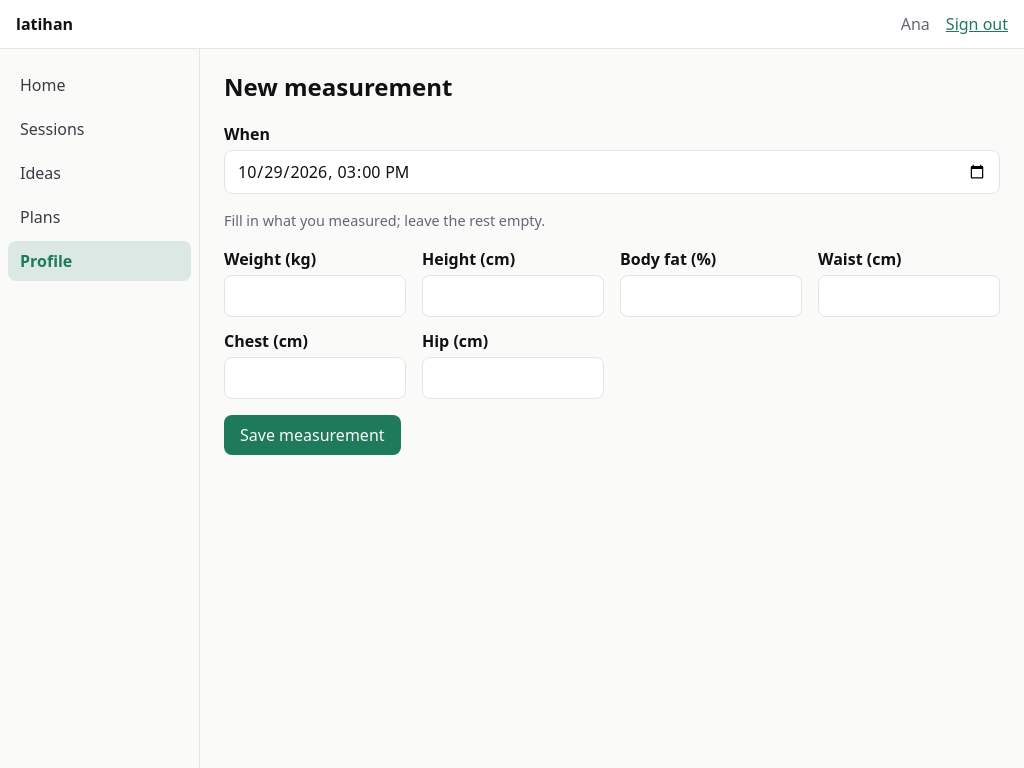
Test case: adding a measurement › sends what was filled in, null for the rest, with an idempotency key
In the field labelled "Weight (kg)": point(315, 296) top-left (224, 275), bottom-right (406, 317), type "72,5"
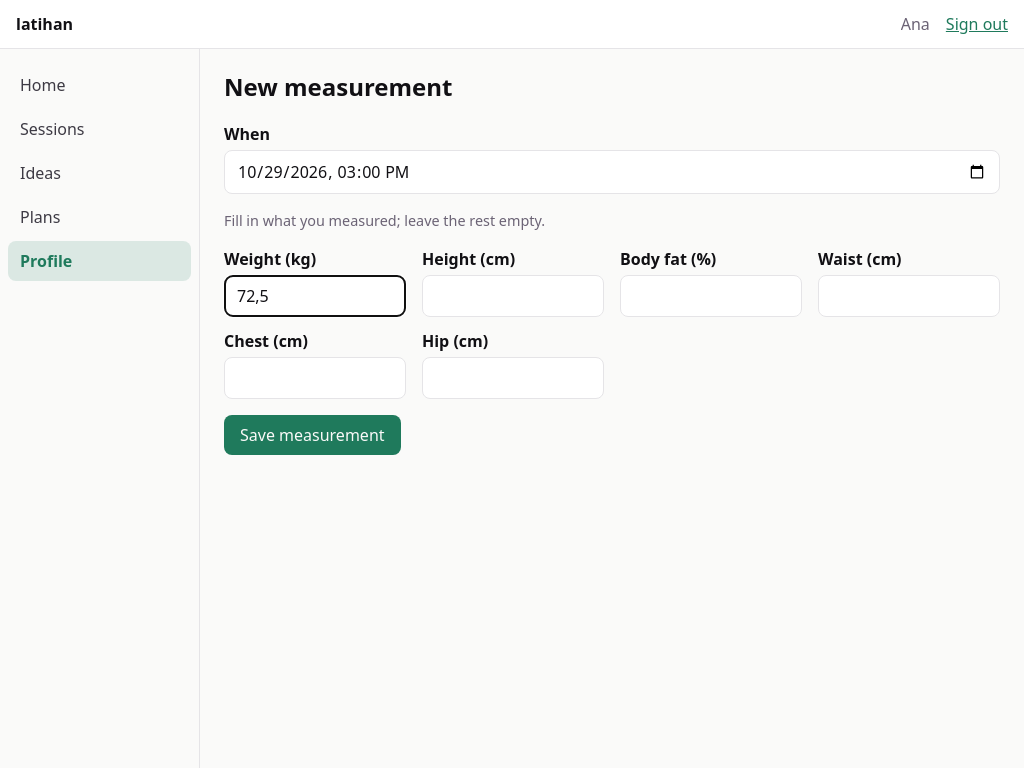
In the field labelled "Body fat (%)": point(711, 296) top-left (620, 275), bottom-right (802, 317), type "0"
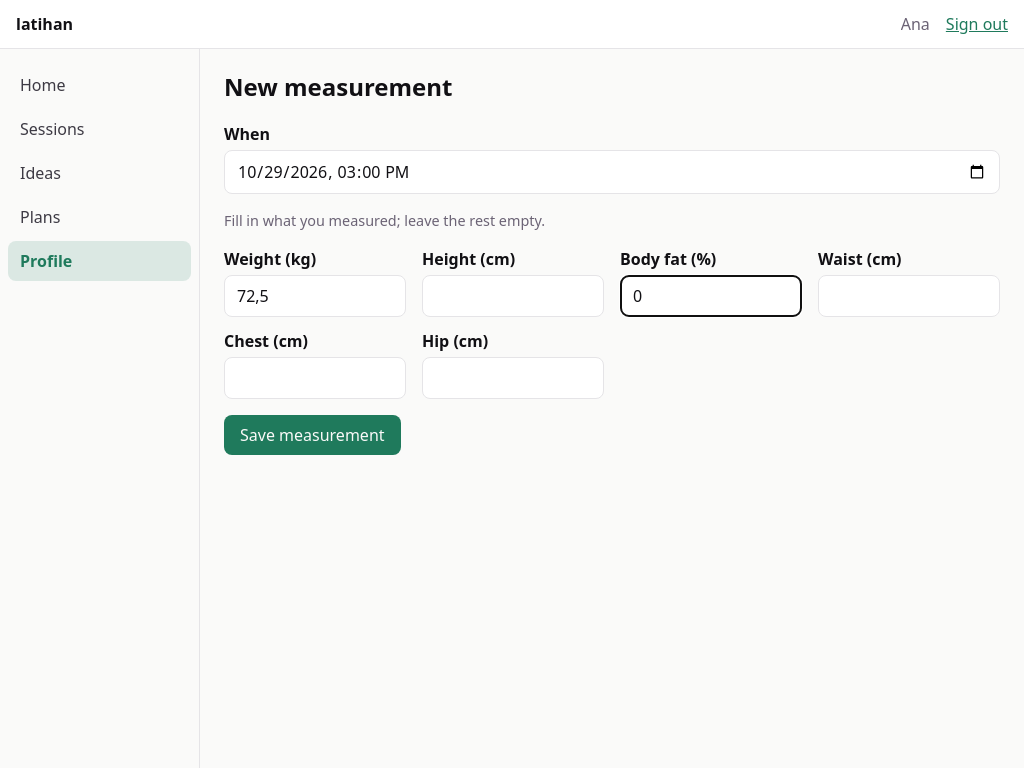
Click the button "Save measurement": point(312, 435) top-left (224, 415), bottom-right (400, 455)
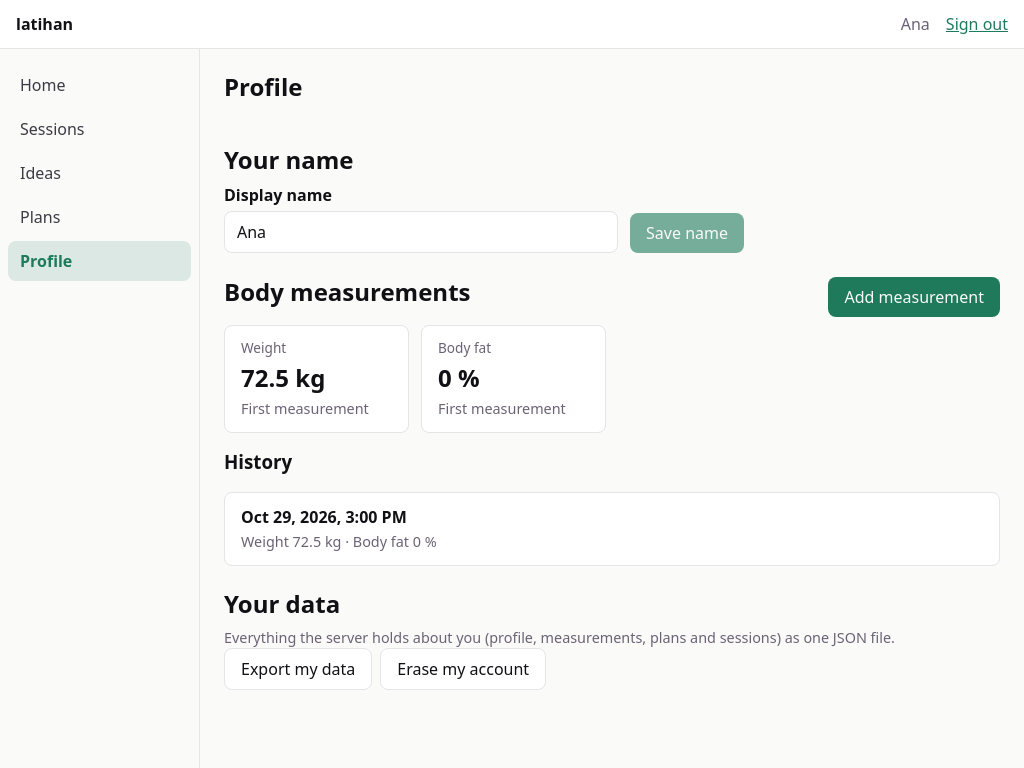
Expected: the heading "Profile" is shown, top-left (224, 70), bottom-right (302, 103)
Expected: the text "First measurement" is shown 2 times, top-left (241, 399), bottom-right (369, 418); top-left (438, 399), bottom-right (566, 418)
